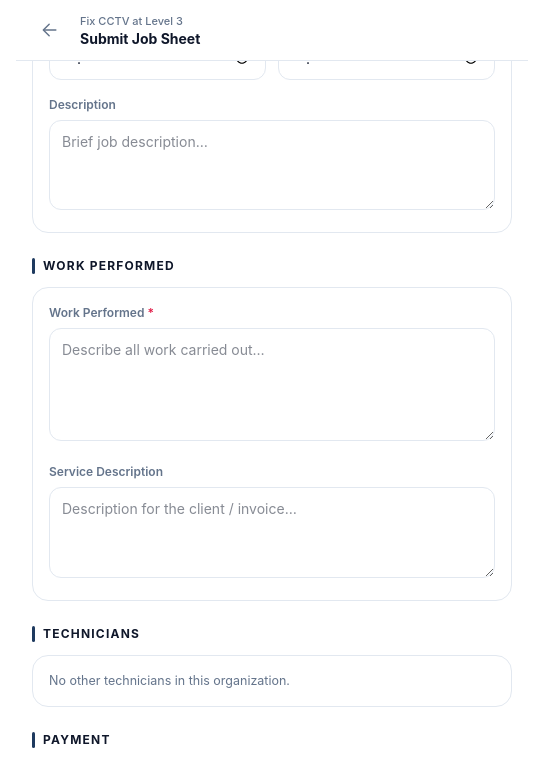
it: SubmitJobSheetPage — job sheet form › shows payment amount validation error when total_amount is empty
(page scrolled)
Type "Replaced faulty cable" into the text box with placeholder "Describe all work carried out…".
click(272, 385); type("Replaced faulty cable")  # box left=49, top=328, right=495, bottom=441
(page scrolled)
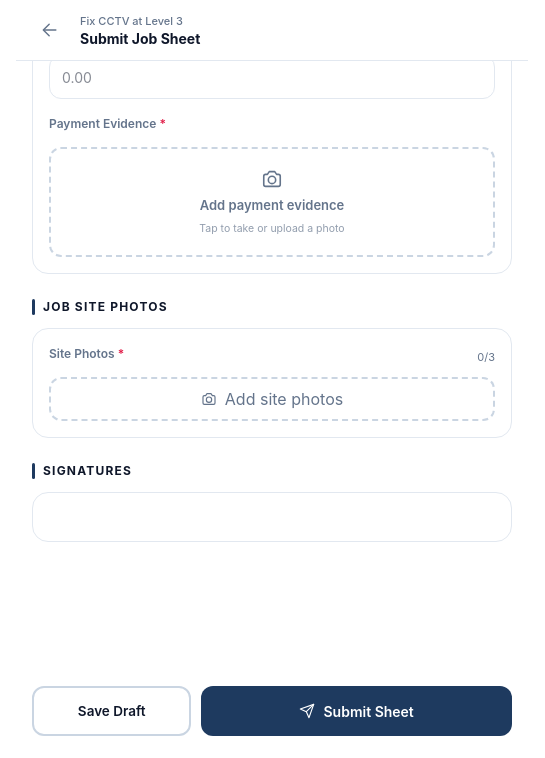
Click the button "Submit Sheet".
click(357, 711)  # box left=201, top=686, right=512, bottom=736
(page scrolled)
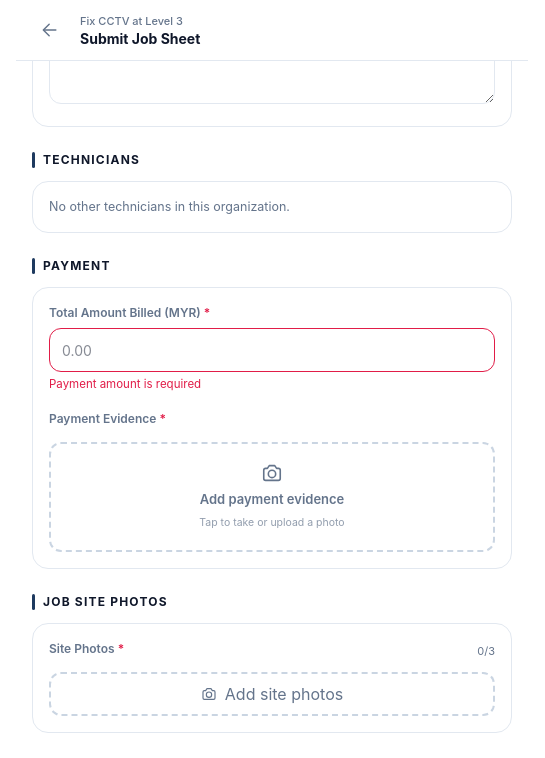
Check: the text "Payment amount is required" is shown, box left=49, top=377, right=201, bottom=391
